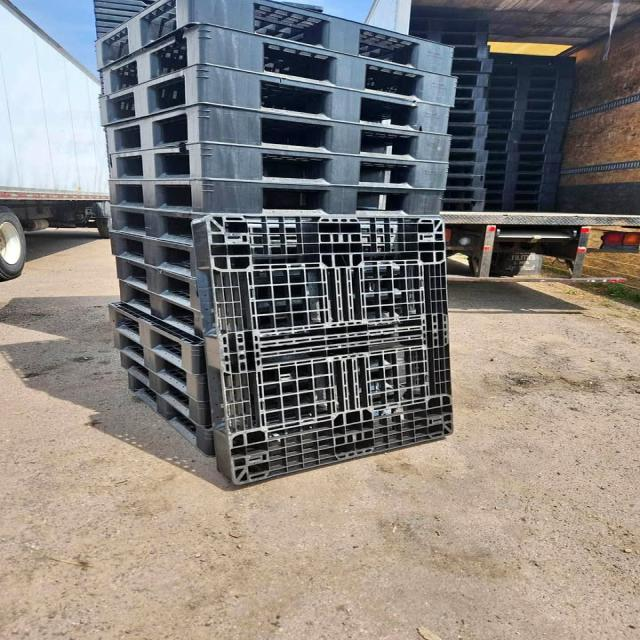non-igps: (90, 0, 461, 491), (396, 14, 497, 213), (465, 51, 579, 214)
